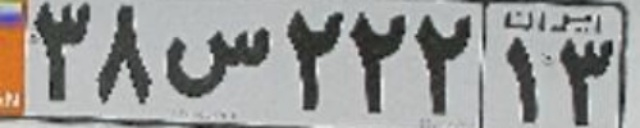1: (504, 37, 537, 123)
2: (283, 10, 342, 111), (414, 13, 472, 115), (349, 11, 406, 114)
3: (33, 1, 89, 102), (559, 36, 615, 126)
8: (94, 5, 152, 103)
sin: (161, 23, 272, 98)
